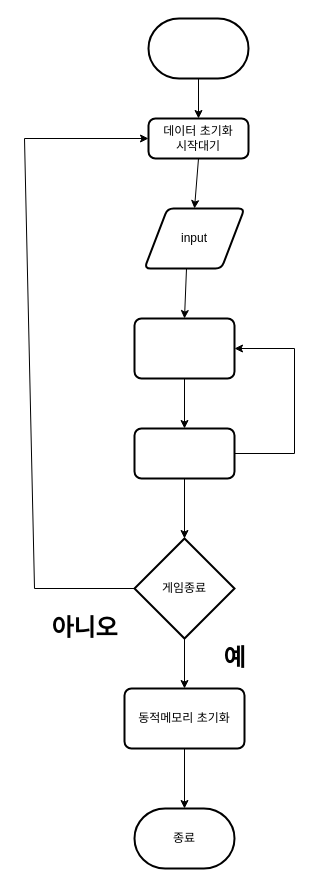
The diagram is 320 pixels wide and 886 high, and some of its shapes have lost their labels. The centre of each missing label's shape, as x and y in pixels:
"render" goes at pixel 184 453.
"Update" goes at pixel 184 348.
"시작" goes at pixel 198 48.
